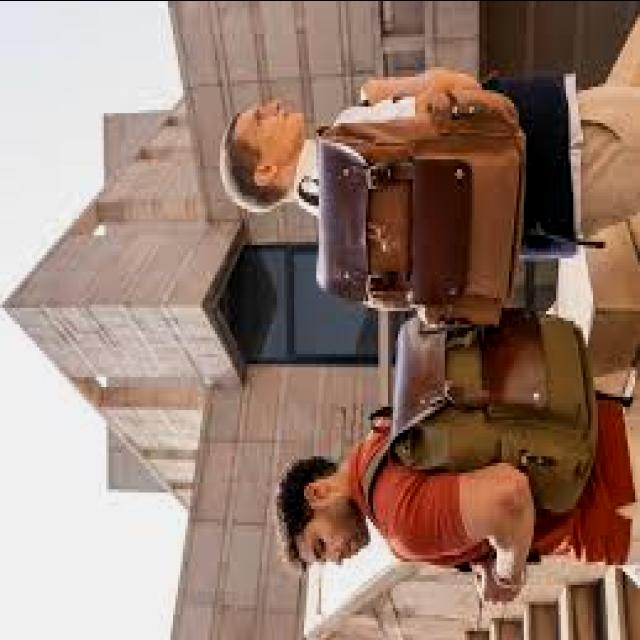backpack: (359, 308, 599, 562), (298, 93, 528, 331)
